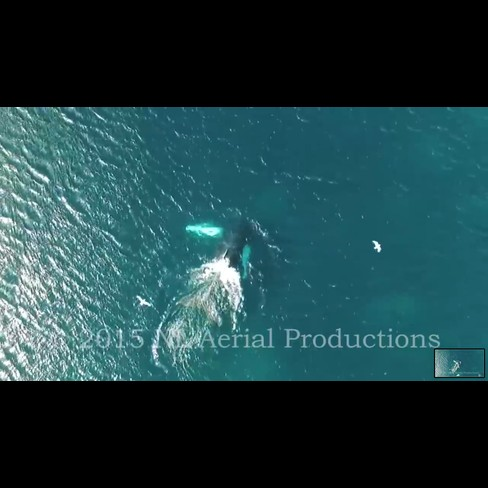hump: (175, 210, 260, 329)
